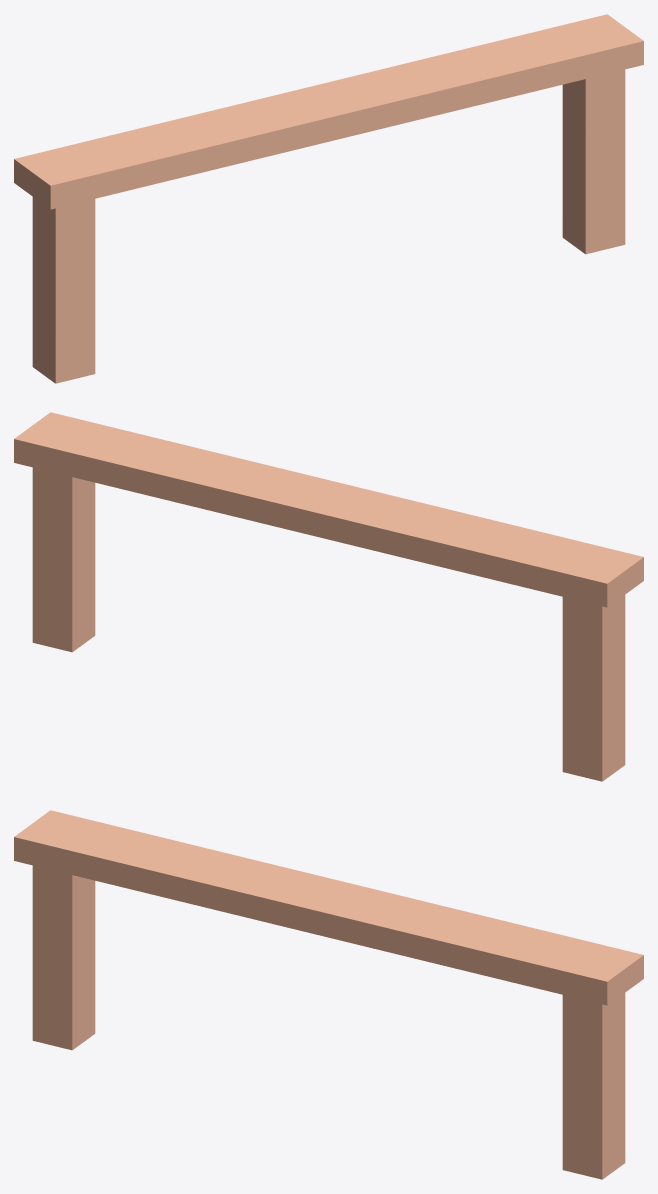
The model's file is fence_simpleHigh.gltf.
3 renders of one model, top to bottom at view 1: azimuth 30°, elevation 25°; view 2: azimuth 150°, elevation 25°; view 3: azimuth 330°, elevation 25°, orthographic.
Visible parts, largest first — view 1: fence_simpleHigh; view 2: fence_simpleHigh; view 3: fence_simpleHigh.
Boxes of the visible parts, left/top/right/bottom form: fence_simpleHigh: left=14, top=14, right=643, bottom=383; fence_simpleHigh: left=14, top=412, right=643, bottom=781; fence_simpleHigh: left=14, top=810, right=643, bottom=1179.
Bounding box in the file's own units: 1.04 × 0.345 × 0.1112.
